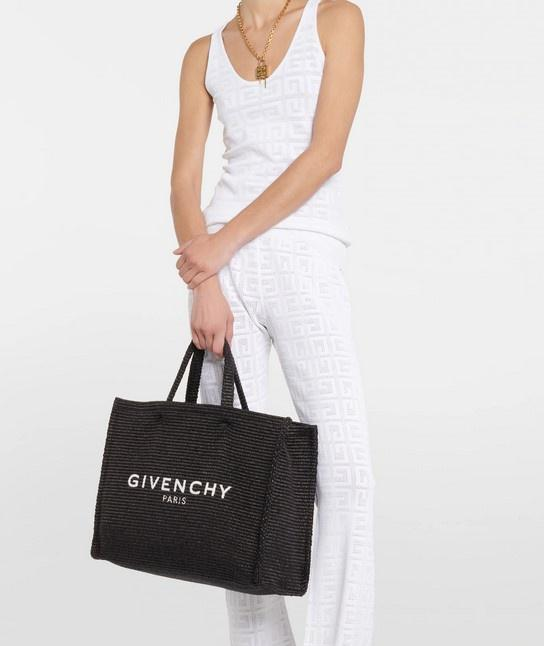GIVENCHY: (117, 461, 238, 521)
